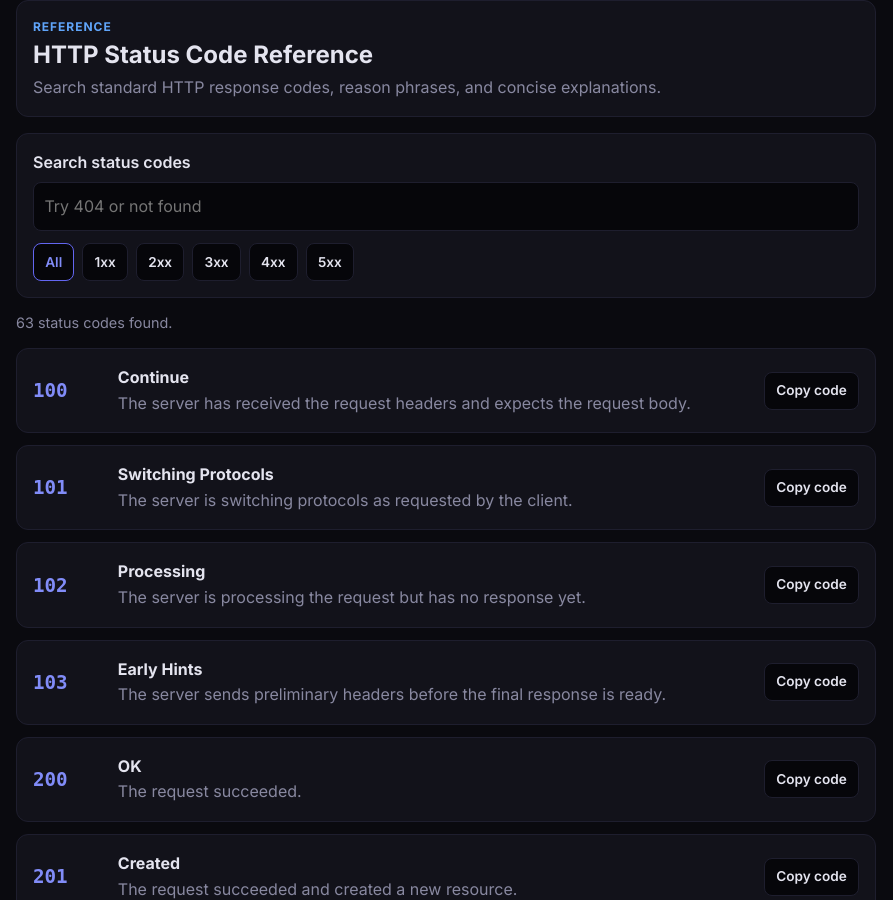
Test case: HttpStatusTool › updates the list and result count when searching
The image size is (893, 900).
In the search field named "Search HTTP status codes": (446, 206) [33,182,859,231], type "not found"
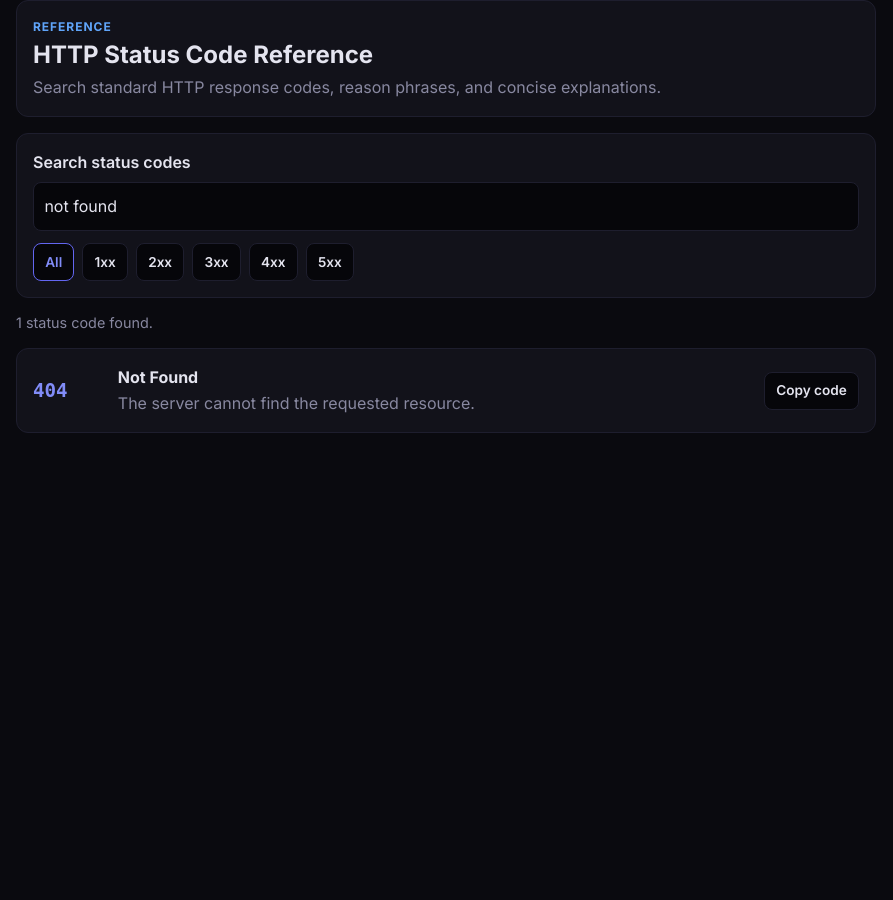
Expected: the text "404" is shown, [33,379,68,402]
Now the message "1 status code found." is shown, box [16,314,153,331]
